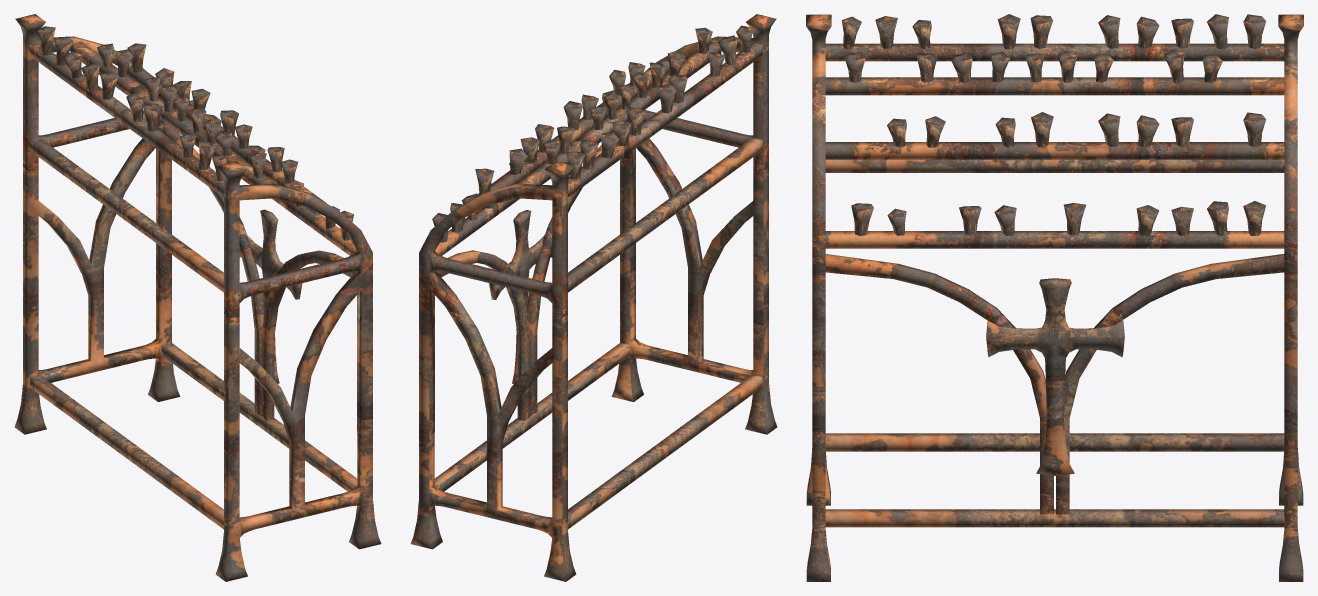
The model's file is CandleHolder.FBX.
3 renders of one model, left to right at view 1: azimuth 30°, elevation 25°; view 2: azimuth 150°, elevation 25°; view 3: azimuth 270°, elevation 25°, orthographic. The views are drawn at different scales.
Visible parts, largest first — view 1: CandleStand; view 2: CandleStand; view 3: CandleStand.
Part boxes in pixels (x1=…): CandleStand: x1=14, y1=14, x2=381, y2=581; CandleStand: x1=410, y1=14, x2=777, y2=581; CandleStand: x1=806, y1=14, x2=1303, y2=581.
Bounding box in the file's own units: 1.75 × 4.41 × 4.12.
